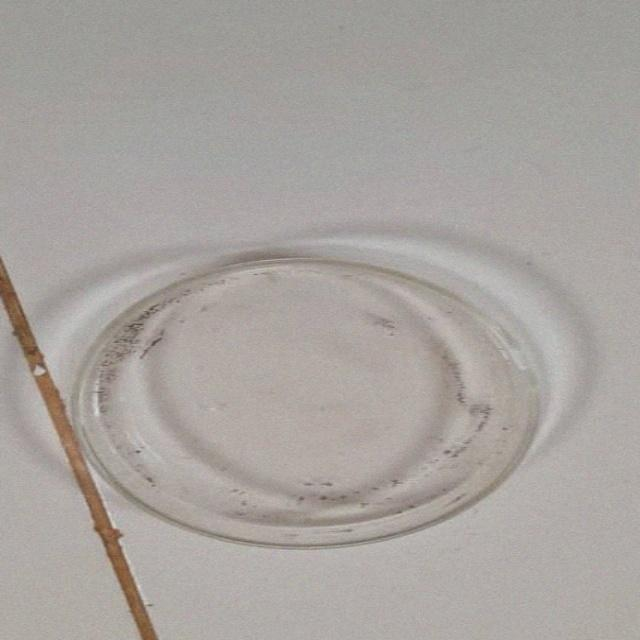Pedrish: (67, 250, 563, 563)
